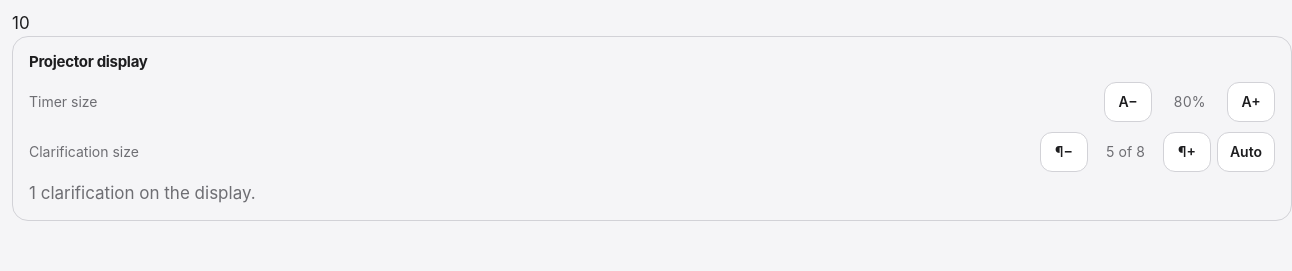
Test: proctor page: projector sizes › drops a click the server refuses and says so
Click the button "Auto".
click(1246, 152)  # box [1217, 132, 1275, 172]
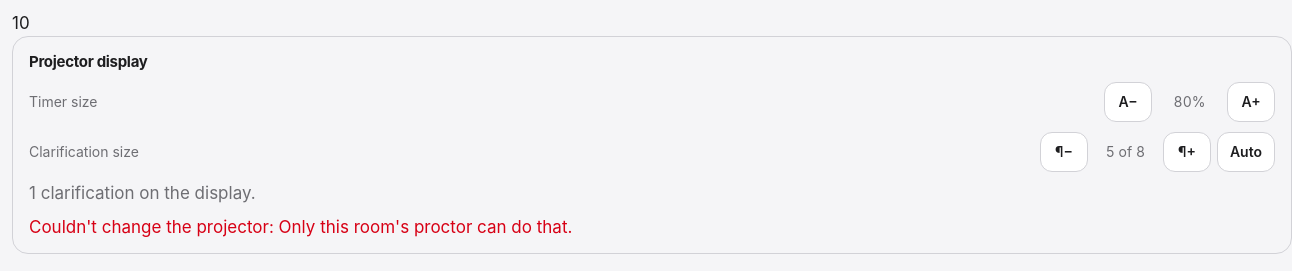
Expected: the text named "Clarification size now" reads "5 of 8", [1106, 143, 1145, 160]
Result: the message "Couldn't change the projector: Only this room's proctor can do that." is shown at [29, 217, 572, 237]
